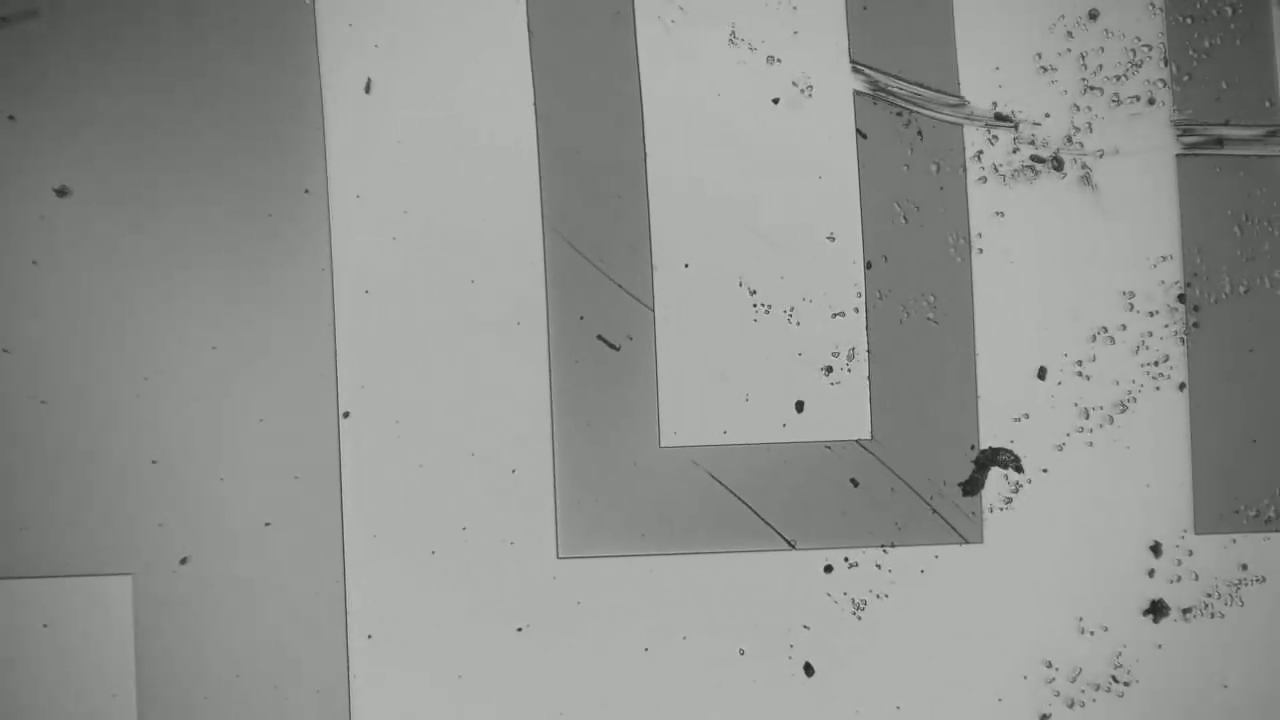Short_circuit: (830, 35, 1000, 145), (1151, 96, 1280, 180)
scratch: (866, 449, 962, 536), (706, 467, 803, 545), (557, 232, 647, 315)
